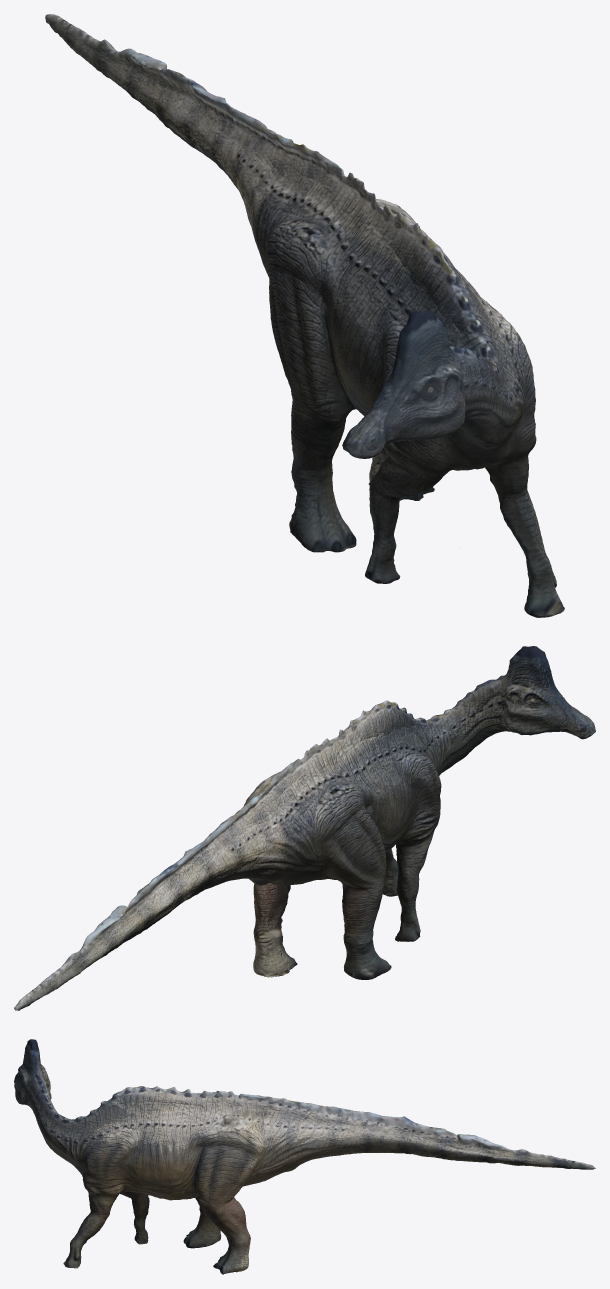
File: Amurosaurus - the crested, duck-billed dinosaur.glb
3 views of the same model, one above another, from view 1: azimuth 30°, elevation 25°; view 2: azimuth 150°, elevation 25°; view 3: azimuth 270°, elevation 25° (orthographic). The views are drawn at different scales.
Parts seen in each view (by area): view 1: dino_retopo_uv; view 2: dino_retopo_uv; view 3: dino_retopo_uv.
Part boxes in pixels (bbox=[...]): dino_retopo_uv: bbox=[45, 14, 564, 617]; dino_retopo_uv: bbox=[14, 646, 595, 1010]; dino_retopo_uv: bbox=[14, 1039, 595, 1274].
Bounding box in the file's own units: 3.4 × 4.12 × 11.68.
Materials: 1 (1 with a texture image).
